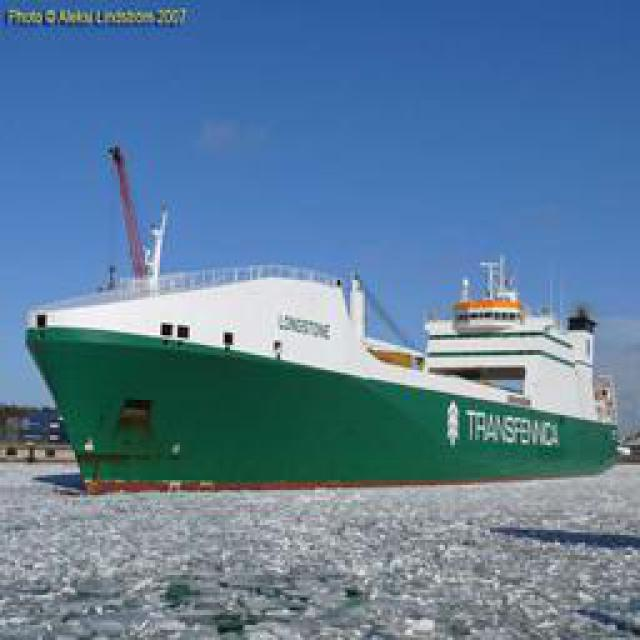Ship: (14, 238, 640, 497)
